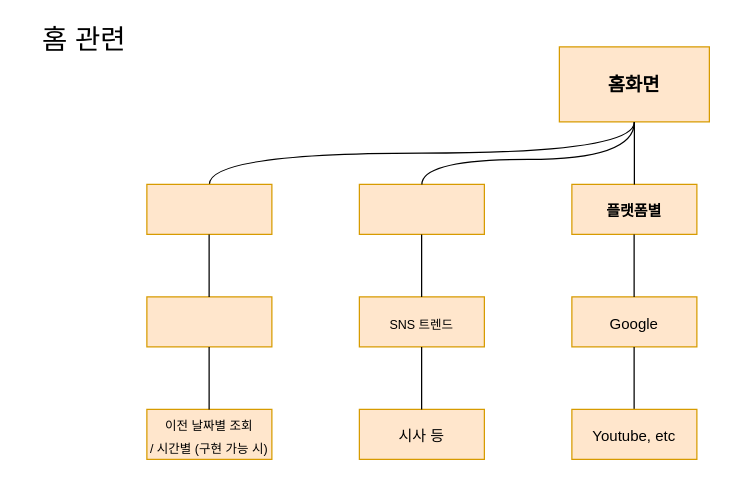
Some shapes in this 731 by 481 pixel diagram are drawn without their labels. The centre of each missing label's shape, as x and y in pixels:
"분야별" goes at [421,208].
"오늘 인기 TOP 10" goes at [209,321].
"최근 인기 검색어" goes at [209,208].
